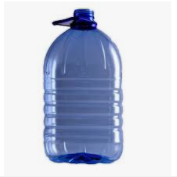Bottle: (45, 9, 122, 163)
